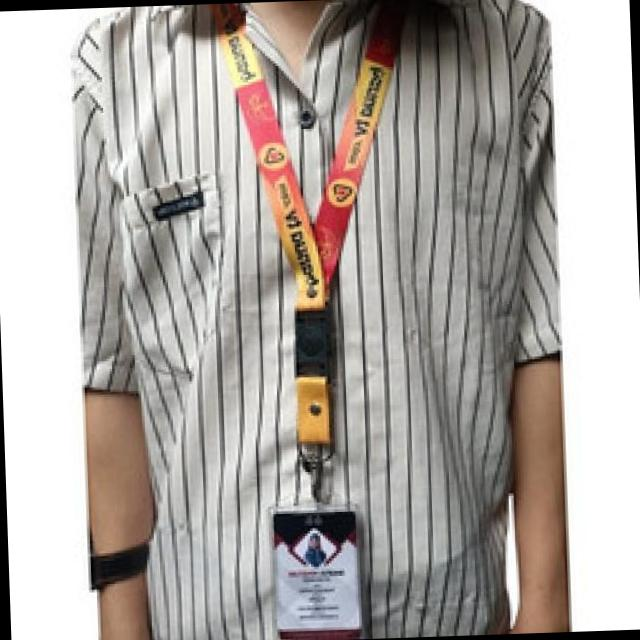id_card: (201, 0, 438, 640)
